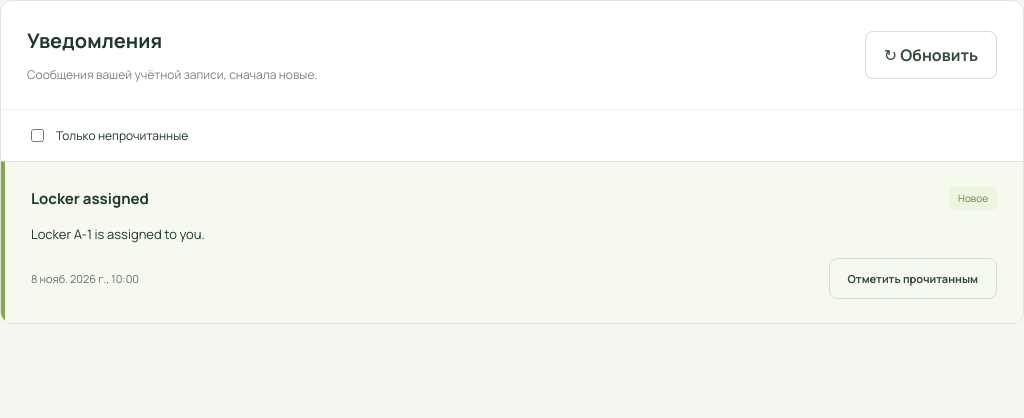
Test: notifications › keeps a notification unread when marking it fails
Step 1. Click the button "Отметить прочитанным" → x=913, y=279, box left=828, top=258, right=997, bottom=299
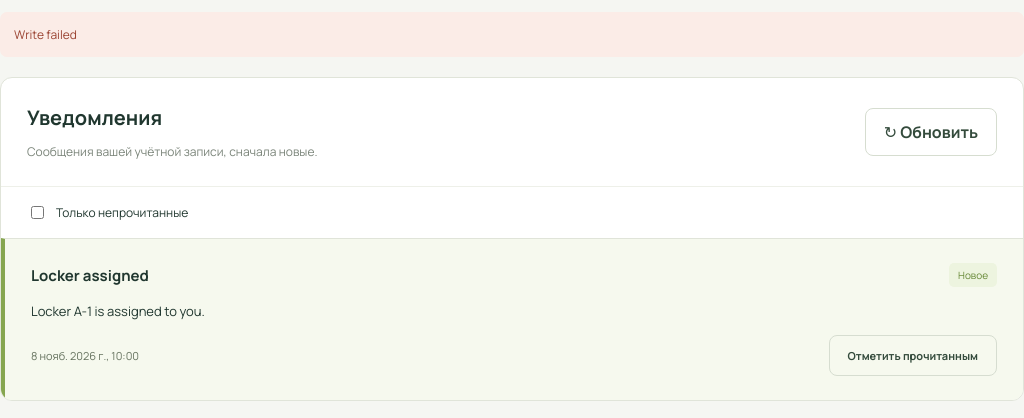
Expected: the text "Новое" is shown, left=949, top=263, right=997, bottom=287
Now the message reads "Write failed", box left=14, top=26, right=77, bottom=43
